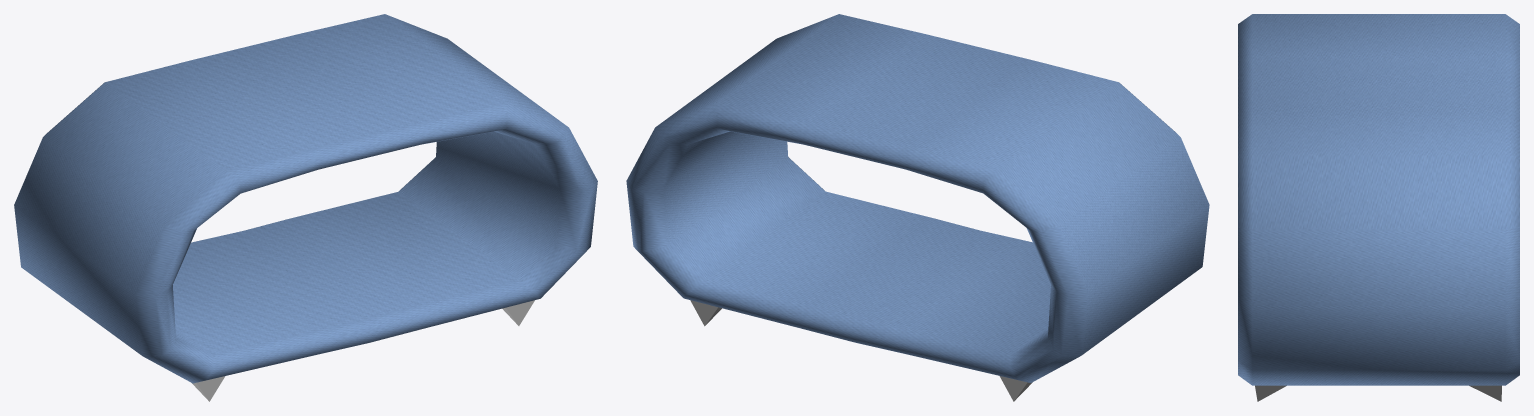
Rendered from Open_Stool_F_2.FBX.
3 renders of one model, left to right at view 1: azimuth 30°, elevation 25°; view 2: azimuth 150°, elevation 25°; view 3: azimuth 270°, elevation 25°, orthographic. The views are drawn at different scales.
Parts seen in each view (by area): view 1: Stool_01; view 2: Stool_01; view 3: Stool_01.
Boxes of the visible parts, bbox=[...] form: Stool_01: bbox=[14, 14, 597, 401]; Stool_01: bbox=[626, 14, 1209, 401]; Stool_01: bbox=[1238, 14, 1519, 401].
Size of the model in its own units: 172 by 81.63 by 87.07.
